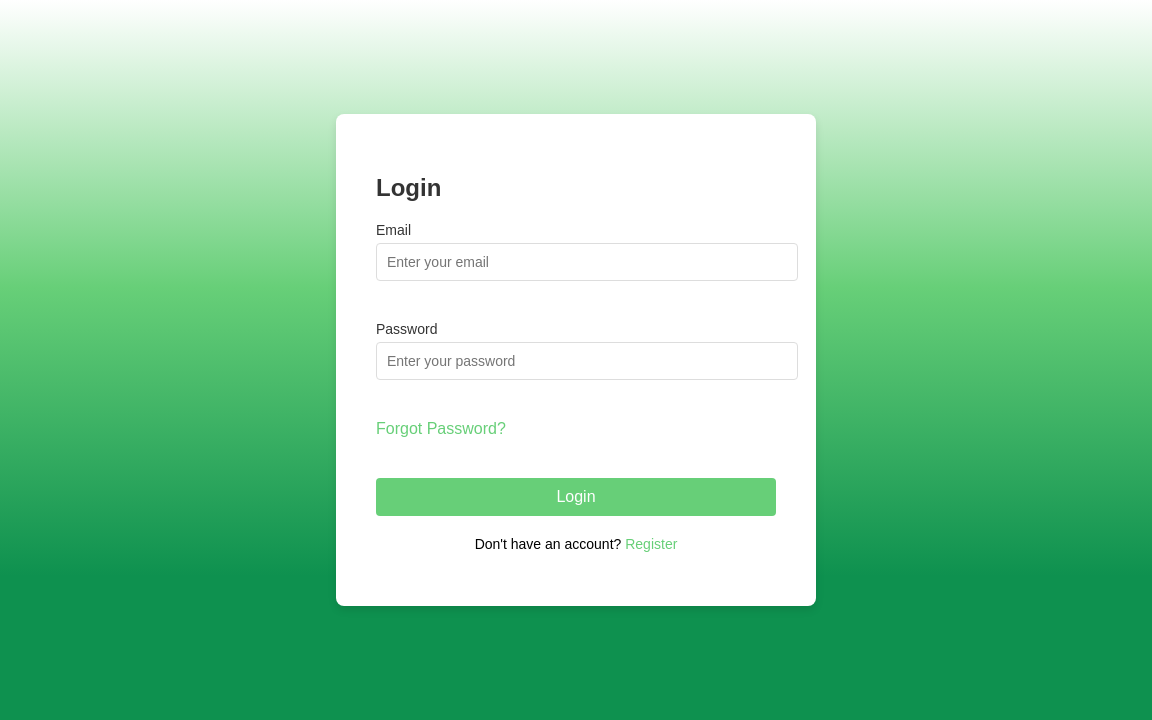
Scenario: Login Component › shows error when fields are empty and submit is clicked
Step 1. Click the button with test id "login-button" → coordinates (576, 497), box [376,478,776,516]
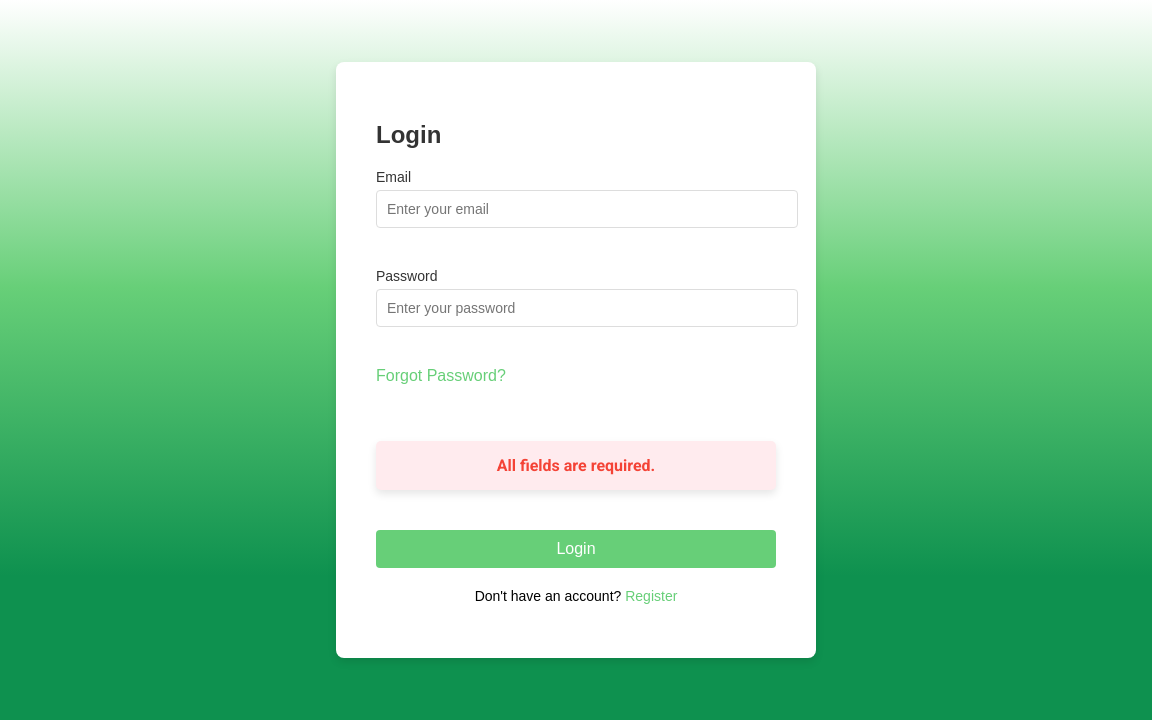
Check: the text with test id "auth-error" reads "All fields are required.", box [497,456,655,476]
